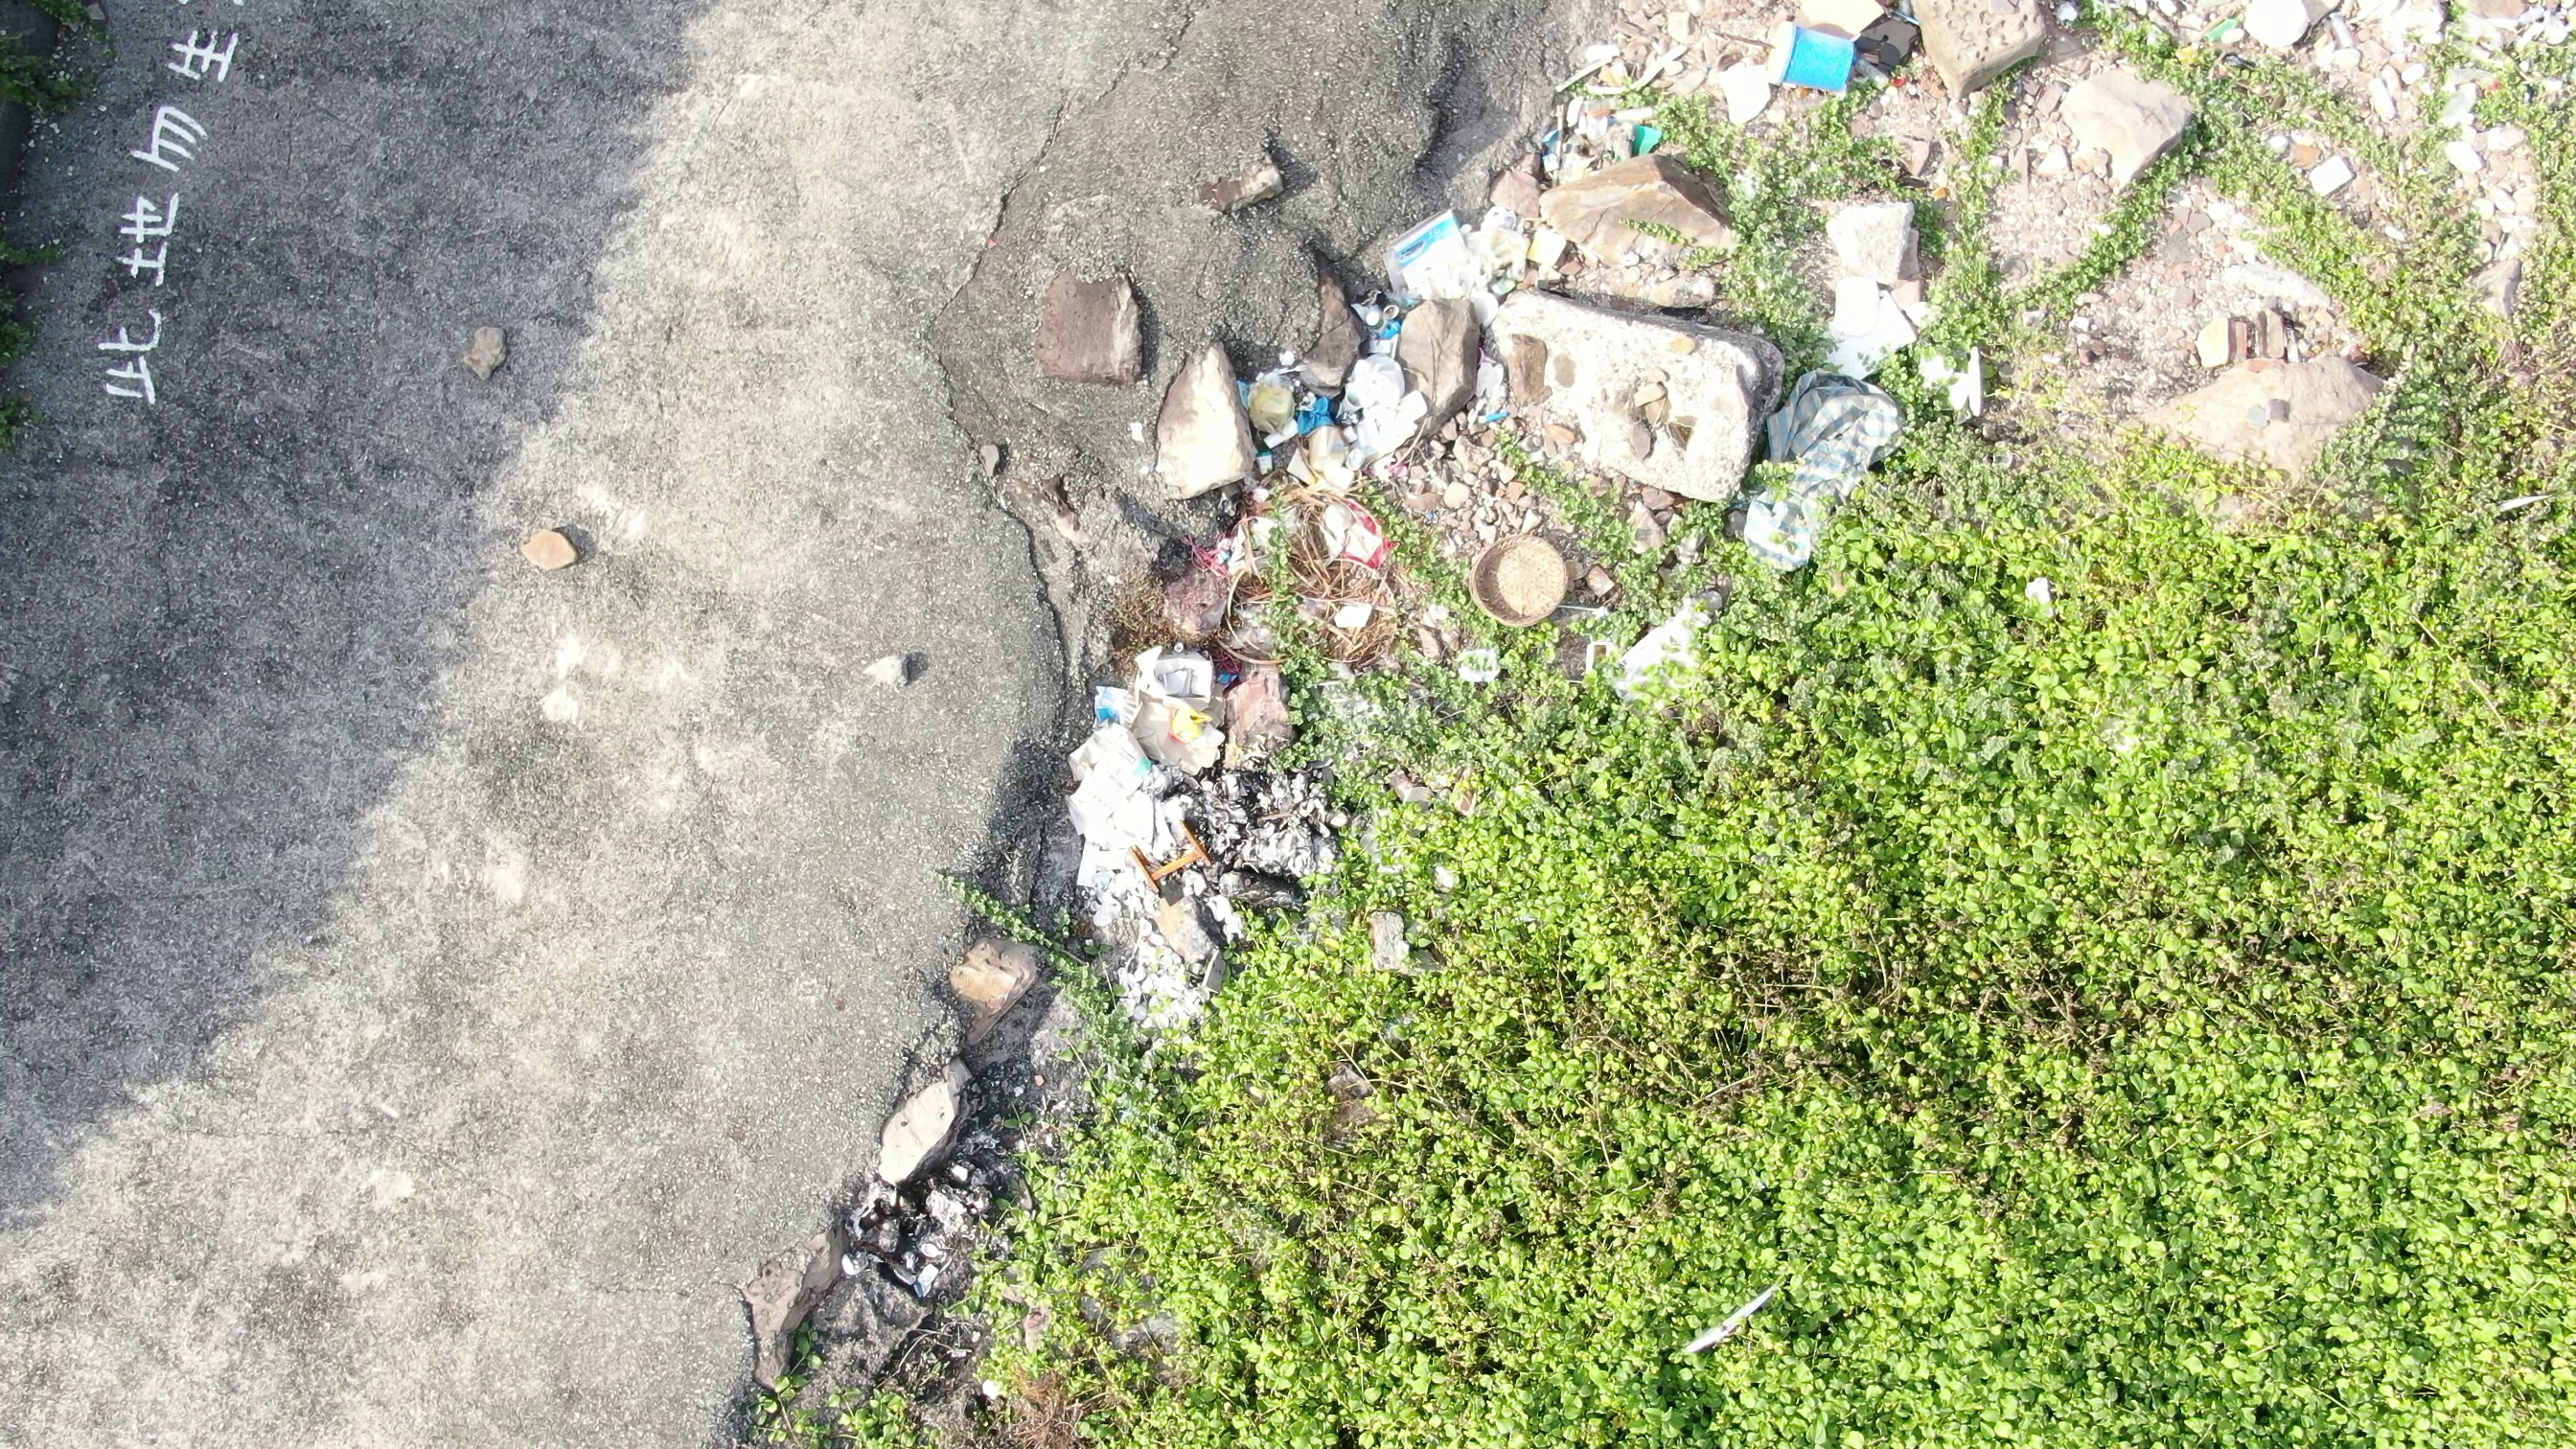garbage: (1044, 497, 1410, 915), (1237, 173, 1571, 478), (1541, 11, 1934, 154), (1727, 350, 1928, 598)
